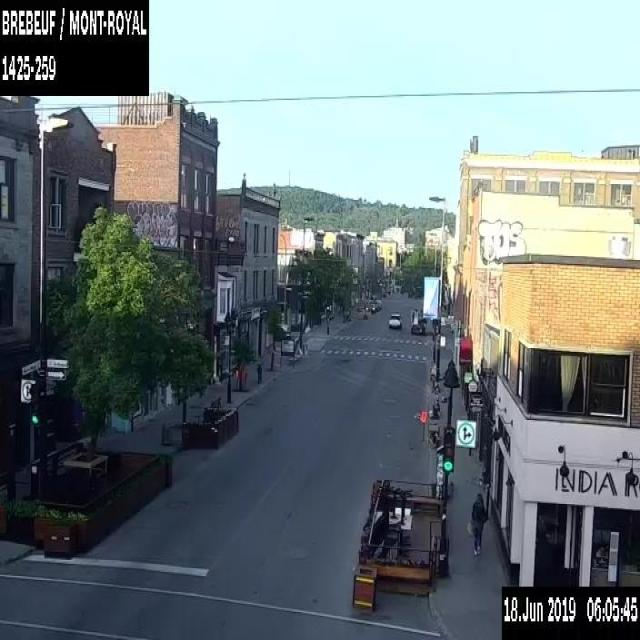pedestrian: (470, 493, 485, 556)
vehicle: (410, 308, 427, 333), (387, 311, 402, 328), (364, 297, 381, 312)
